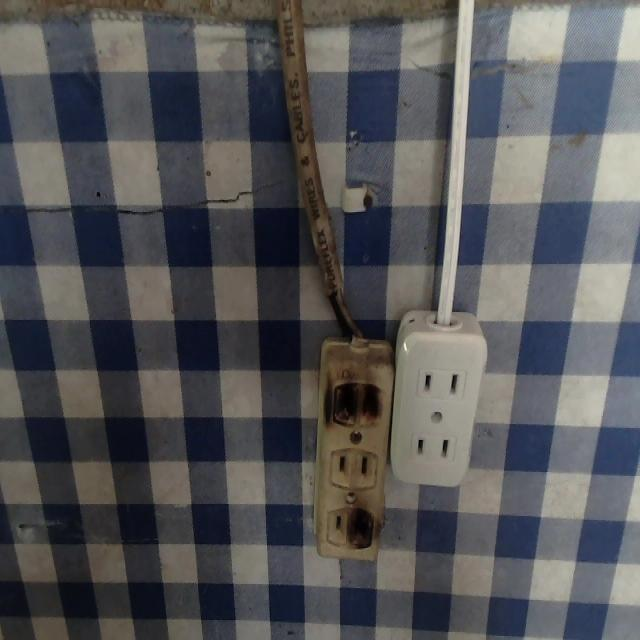-: (328, 380, 384, 432), (342, 509, 381, 551)
